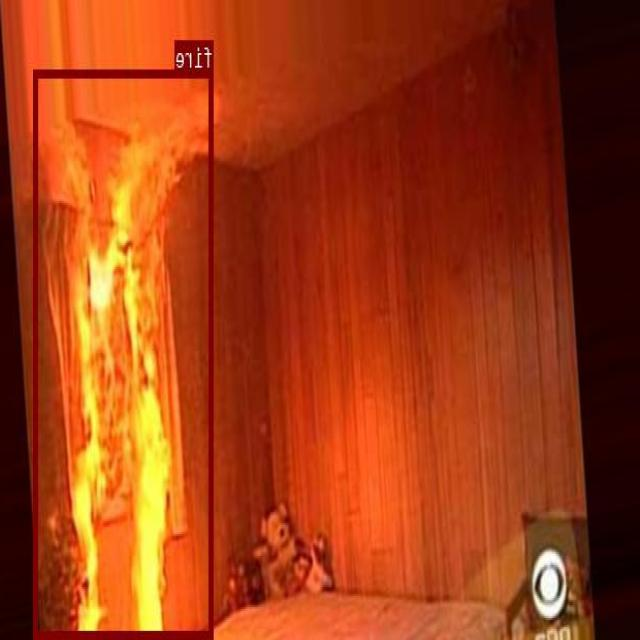fire: (35, 68, 214, 636)
